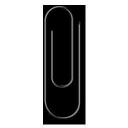Metal: (44, 5, 85, 123)
